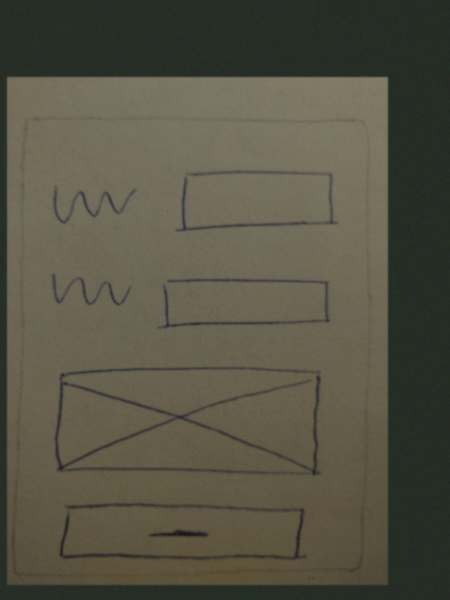button: (45, 498, 316, 565)
image: (42, 358, 338, 489)
text: (40, 174, 140, 229), (42, 265, 134, 318)
text_input: (165, 163, 347, 238), (148, 269, 337, 336)
